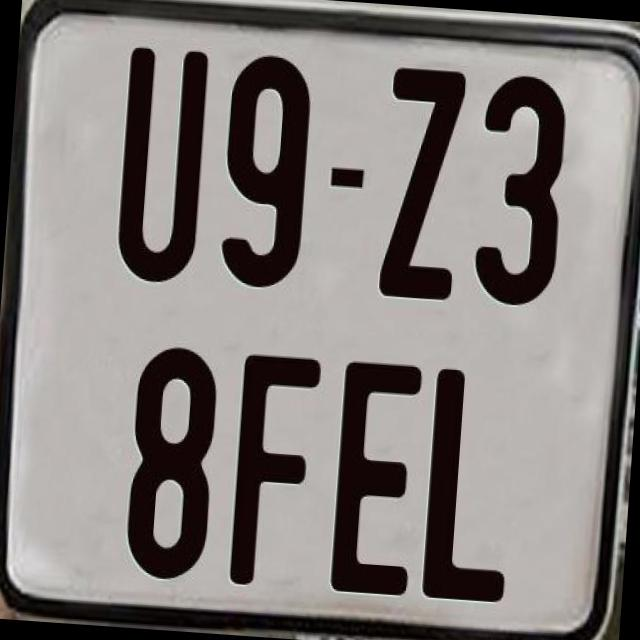3: (471, 72, 575, 314)
8: (120, 340, 222, 584)
9: (215, 52, 318, 290)
E: (328, 360, 426, 599)
F: (227, 348, 326, 588)
L: (419, 364, 518, 600)
U: (110, 44, 212, 290)
Z: (378, 62, 472, 304)
